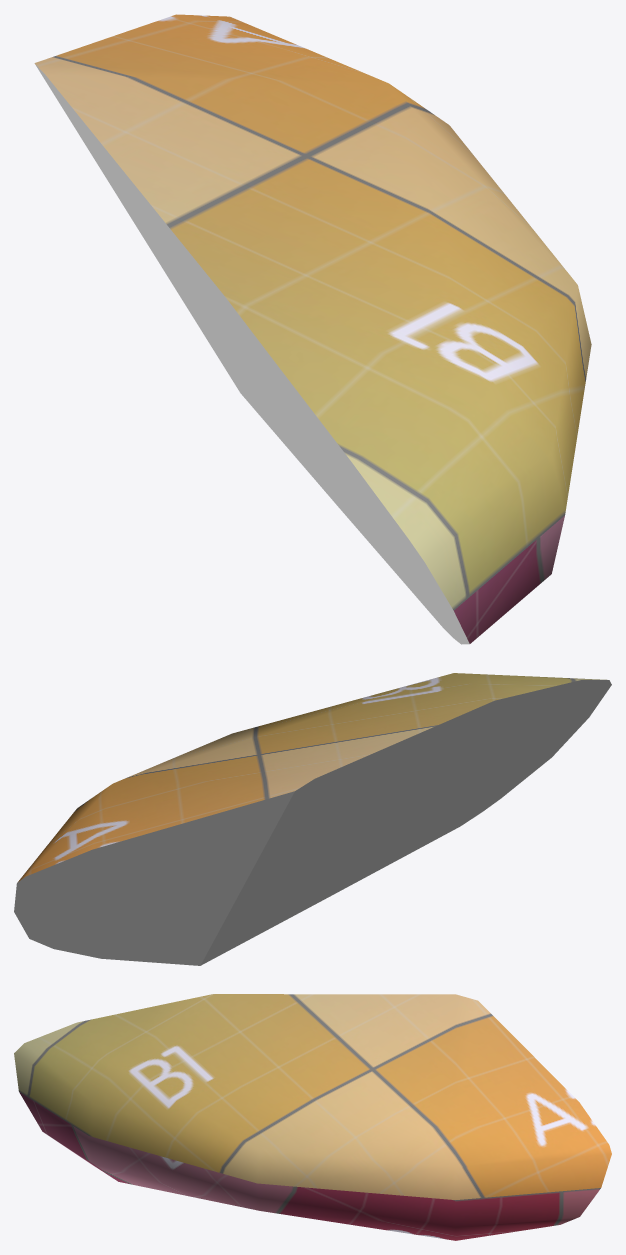
The model's file is MediumUrnLid_SHAT_cell_001.fbx.
3 renders of one model, top to bottom at view 1: azimuth 30°, elevation 25°; view 2: azimuth 150°, elevation 25°; view 3: azimuth 270°, elevation 25°, orthographic. The views are drawn at different scales.
Parts seen in each view (by area): view 1: MediumUrnLid_SHAT_cell_001; view 2: MediumUrnLid_SHAT_cell_001; view 3: MediumUrnLid_SHAT_cell_001.
Part boxes in pixels (<box>): MediumUrnLid_SHAT_cell_001: <box>34,14,591,644</box>; MediumUrnLid_SHAT_cell_001: <box>14,673,611,965</box>; MediumUrnLid_SHAT_cell_001: <box>14,994,611,1240</box>.
Bounding box in the file's own units: 0.1744 × 0.1247 × 0.3698.
Materials: 2 (1 with a texture image).
